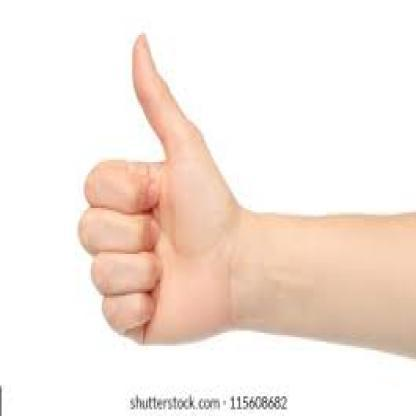thumb_up: (70, 30, 242, 348)
